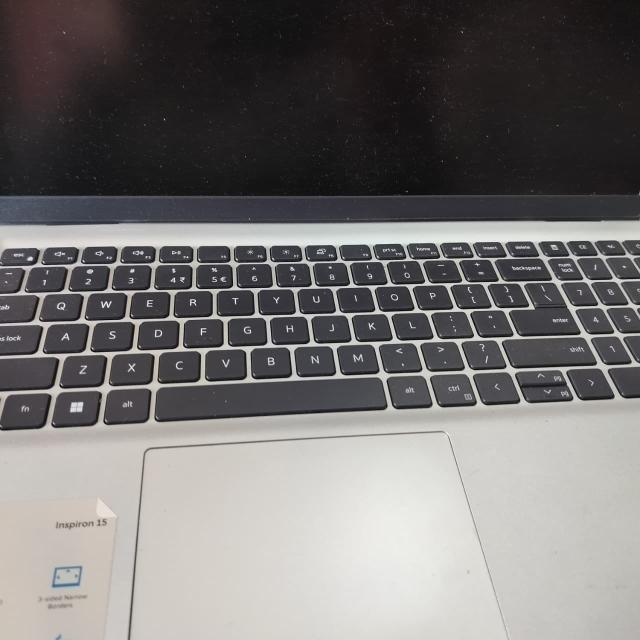laptop: (0, 11, 640, 635)
